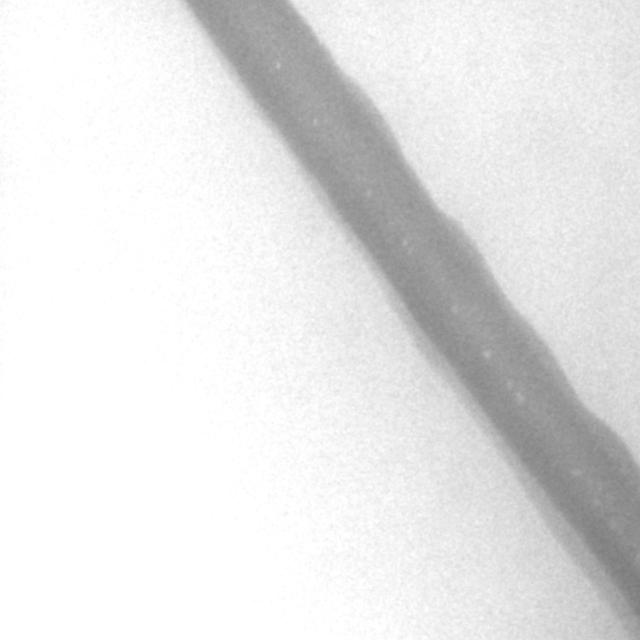air-hole: (482, 350, 492, 361), (612, 520, 621, 532), (517, 389, 525, 402), (363, 192, 374, 201), (572, 472, 584, 480), (592, 499, 602, 507), (401, 237, 408, 247), (506, 375, 512, 385), (314, 122, 320, 130), (409, 250, 416, 256), (453, 310, 459, 314), (278, 66, 280, 72)
